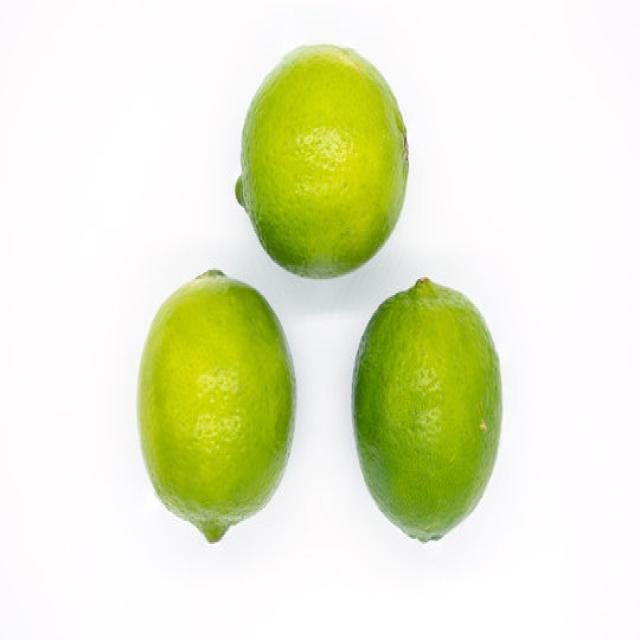Lemon: (135, 267, 296, 542), (235, 41, 409, 279), (351, 274, 502, 542)
